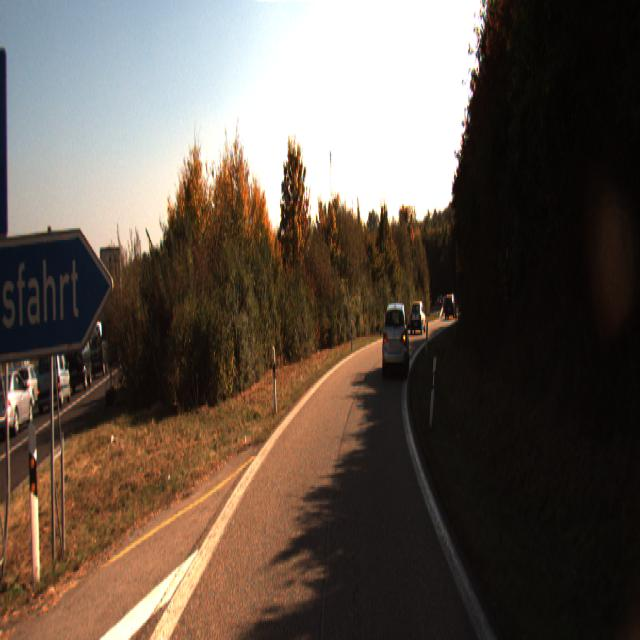Car: (0, 362, 34, 441), (38, 342, 72, 412), (382, 300, 410, 376), (410, 302, 425, 336), (444, 295, 456, 319)
